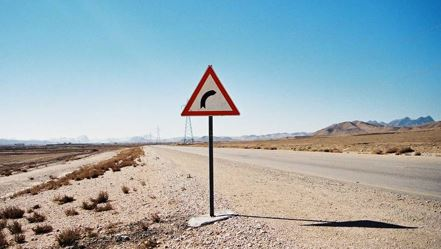Bend_to_right: (179, 64, 243, 120)
